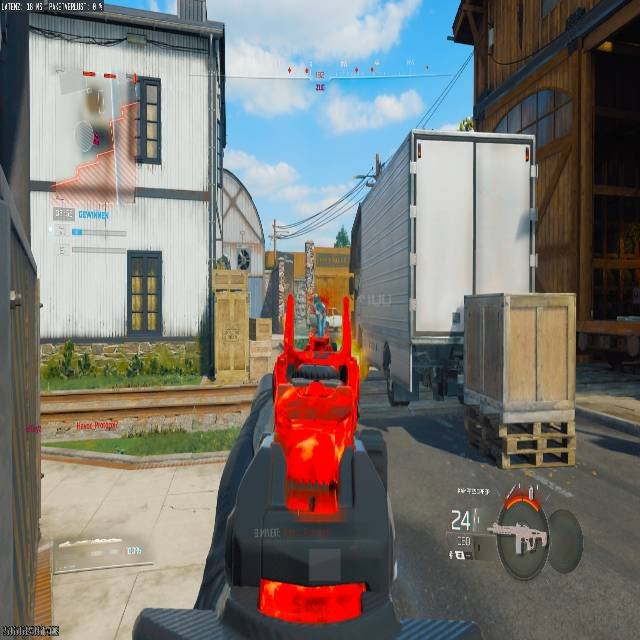player: (305, 289, 329, 338), (237, 248, 250, 270)
